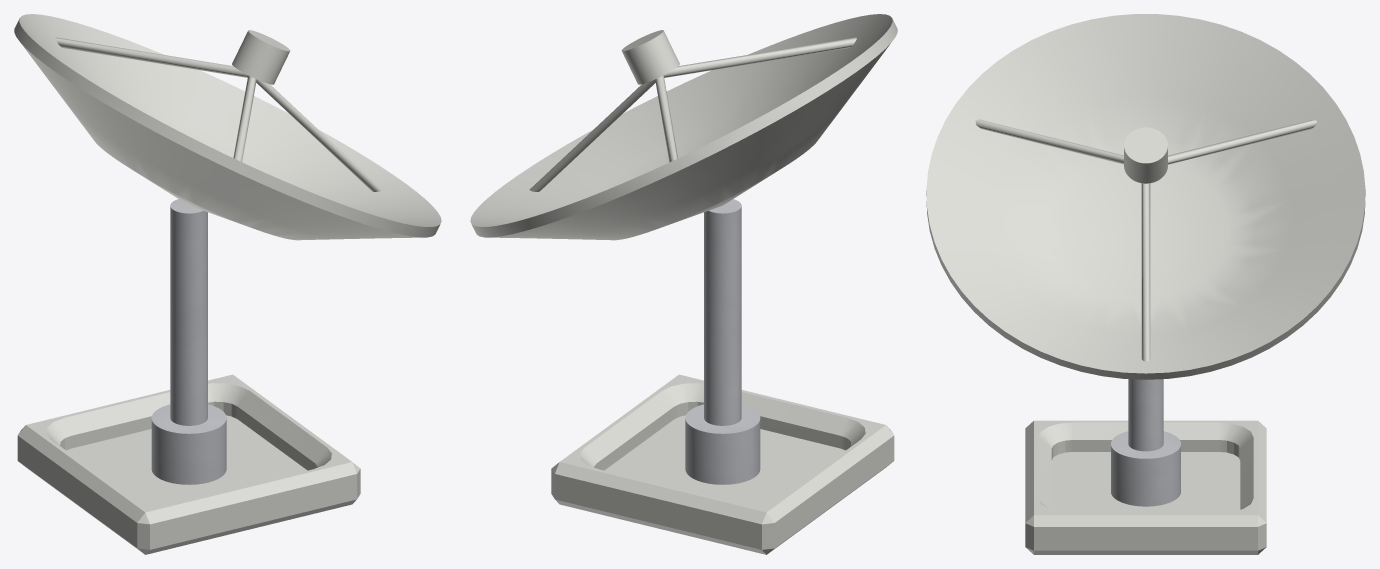
The model's file is ax_power_14_high_gain_dish_s_deployed.glb.
The picture shows the model from 3 angles, left to right: view 1: azimuth 30°, elevation 25°; view 2: azimuth 150°, elevation 25°; view 3: azimuth 270°, elevation 25°; orthographic projection. The views are drawn at different scales.
Visible parts, largest first — view 1: dish, gimbal_well, gimbal; view 2: dish, gimbal_well, gimbal; view 3: dish, gimbal_well, gimbal.
Part boxes in pixels (x1=…): dish: x1=14, y1=14, x2=441, y2=240; gimbal_well: x1=17, y1=374, x2=360, y2=554; gimbal: x1=151, y1=199, x2=226, y2=484; dish: x1=470, y1=14, x2=897, y2=240; gimbal_well: x1=551, y1=374, x2=894, y2=554; gimbal: x1=685, y1=199, x2=760, y2=484; dish: x1=926, y1=14, x2=1365, y2=379; gimbal_well: x1=1025, y1=420, x2=1266, y2=554; gimbal: x1=1111, y1=379, x2=1180, y2=506.
Size of the model in its own units: 0.878 by 1.09 by 0.9997.
Materials: 2 (1 with a texture image).
